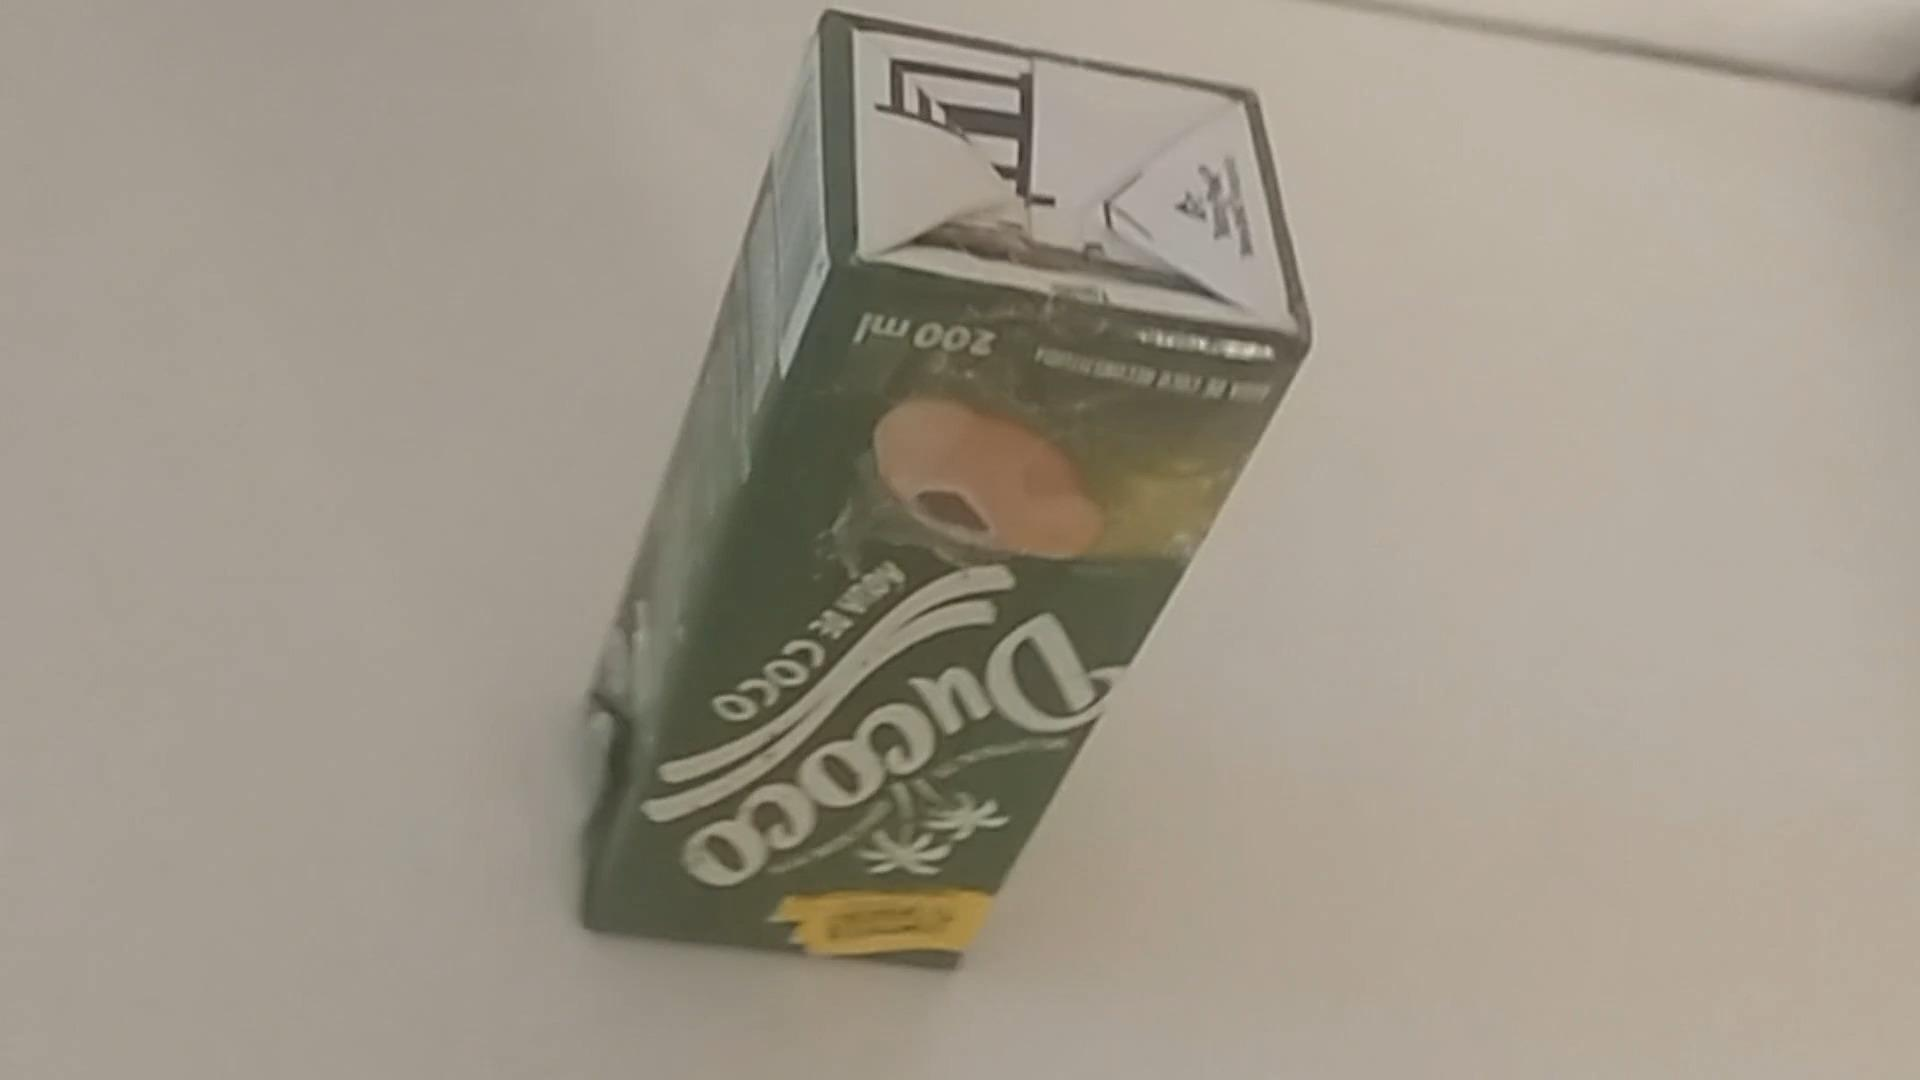coco: (570, 8, 1300, 978)
